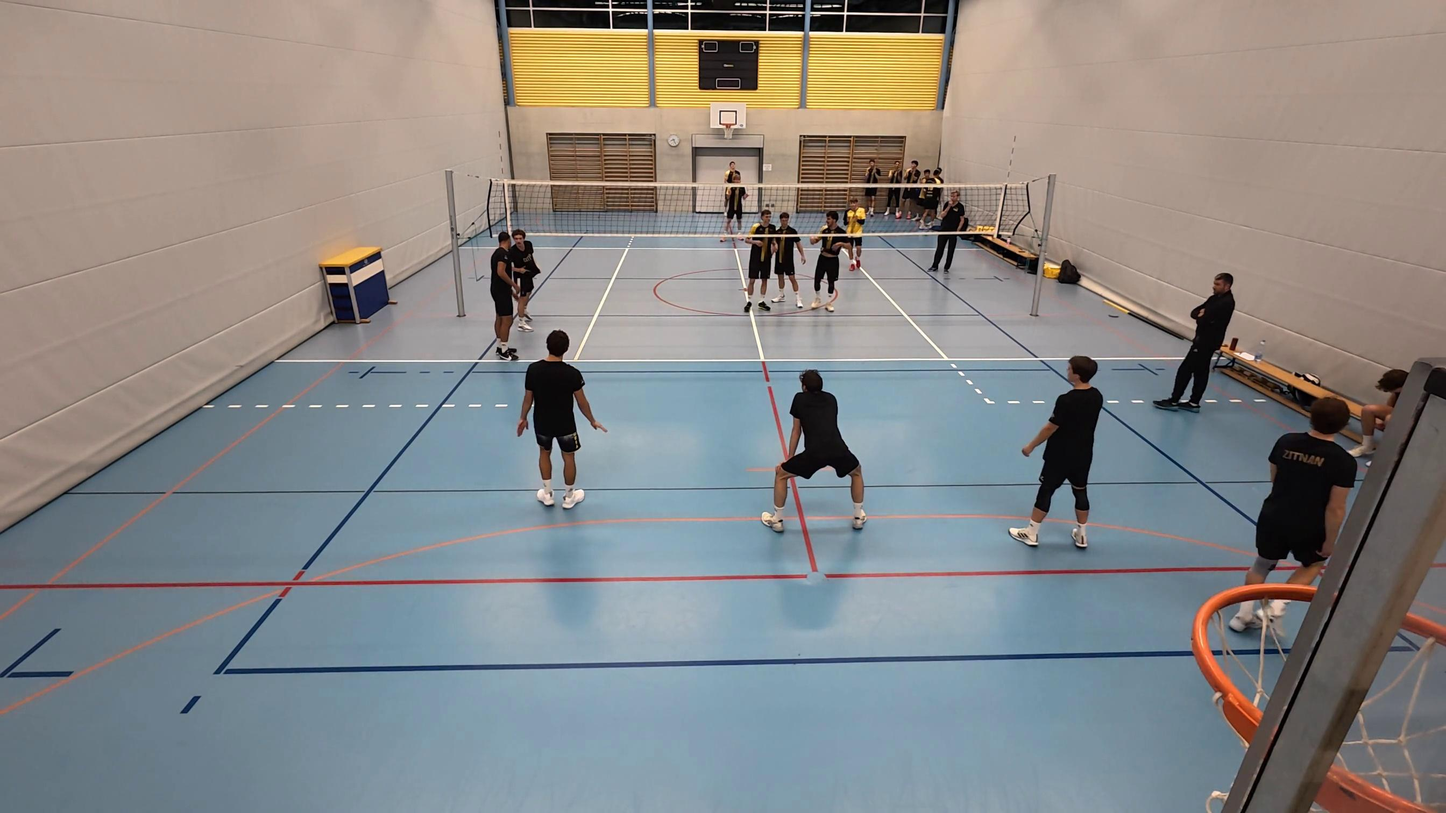Player: (1228, 402, 1357, 634), (1009, 355, 1104, 549), (761, 369, 867, 532), (516, 330, 607, 508), (486, 231, 521, 361), (734, 212, 778, 314), (807, 212, 848, 312), (767, 210, 804, 310), (509, 229, 542, 333), (721, 173, 747, 244), (721, 162, 741, 216)
Receive: (842, 196, 867, 270)
